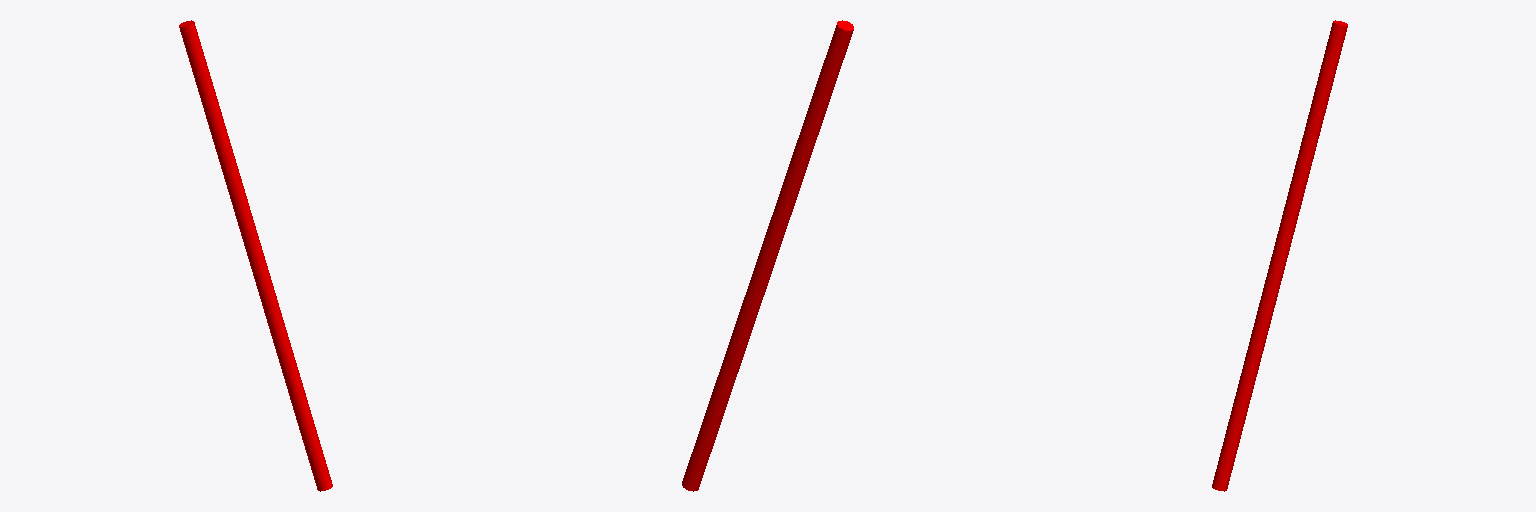
URDF robot description (tree_84.urdf):
<?xml version='1.0' encoding='utf-8'?>
<robot name="tree_84.urdf">
  <link name="branch_0">
    <inertial>
      <origin xyz="0.0 0.0 0.0" rpy="0.0 -0.0 0.0" />
      <mass value="1.0" />
      <inertia ixx="1.0" ixy="0.0" ixz="0.0" iyy="1.0" iyz="0.0" izz="1.0" />
    </inertial>
    <visual name="branch_0_visual">
      <geometry>
        <cylinder radius="0.03212207608907662" length="2.0189071589083603" />
      </geometry>
      <material name="semantic_material" />
      <origin xyz="-0.1770056430842433 0.24674088706420125 0.9626964558156227" rpy="5.551115123125783e-17 0.30555295218476347 2.193088163819052" />
    </visual>
    <collision name="branch_0_collision">
      <geometry>
        <cylinder radius="0.03212207608907662" length="2.0189071589083603" />
      </geometry>
      <origin xyz="-0.1770056430842433 0.24674088706420125 0.9626964558156227" rpy="5.551115123125783e-17 0.30555295218476347 2.193088163819052" />
    </collision>
  </link>
  <material name="semantic_material">
    <color rgba="1. 0. 0. 1." />
  </material>
</robot>

--- What the picture shows (computed from the rendered views, not written in the file) ---
3 views of the same robot in one strip: view 1: azimuth 30°, elevation 25°; view 2: azimuth 210°, elevation 25°; view 3: azimuth 270°, elevation 25° (orthographic).
Robot: tree_84.urdf — 1 links, 0 joints (none); root link branch_0; default pose: every joint at zero.
Links seen in each view (by area): view 1: branch_0; view 2: branch_0; view 3: branch_0.
Link boxes in pixels (bbox=[...]): branch_0: bbox=[179, 20, 332, 491]; branch_0: bbox=[682, 20, 853, 491]; branch_0: bbox=[1212, 20, 1347, 491].
Bounding box of the posed robot: 0.4173 × 0.5557 × 1.94 m (x, y, z).
Geometry: primitives only (box / cylinder / sphere), no mesh files.
